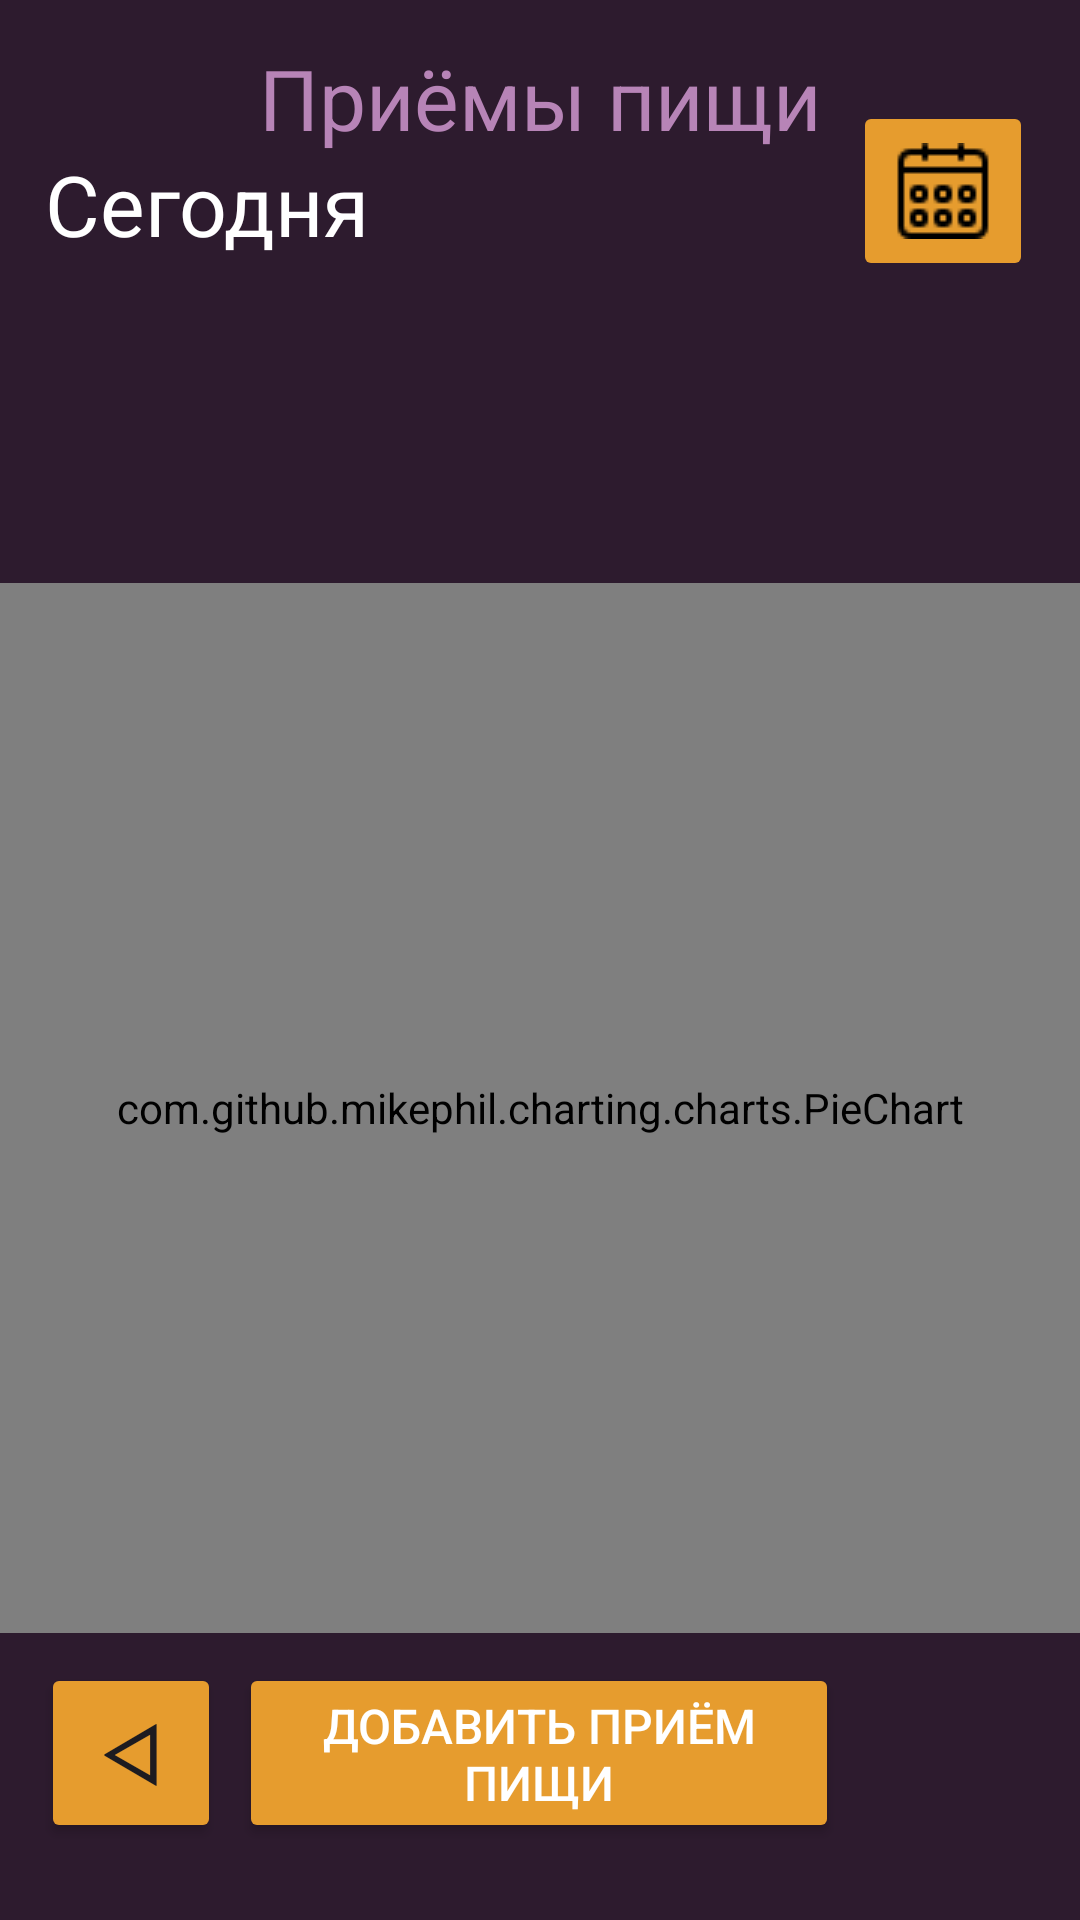

Named icons in this screenshot (1080w x 1920h) and their centers, [x,y]:
calendar: [943,191]
